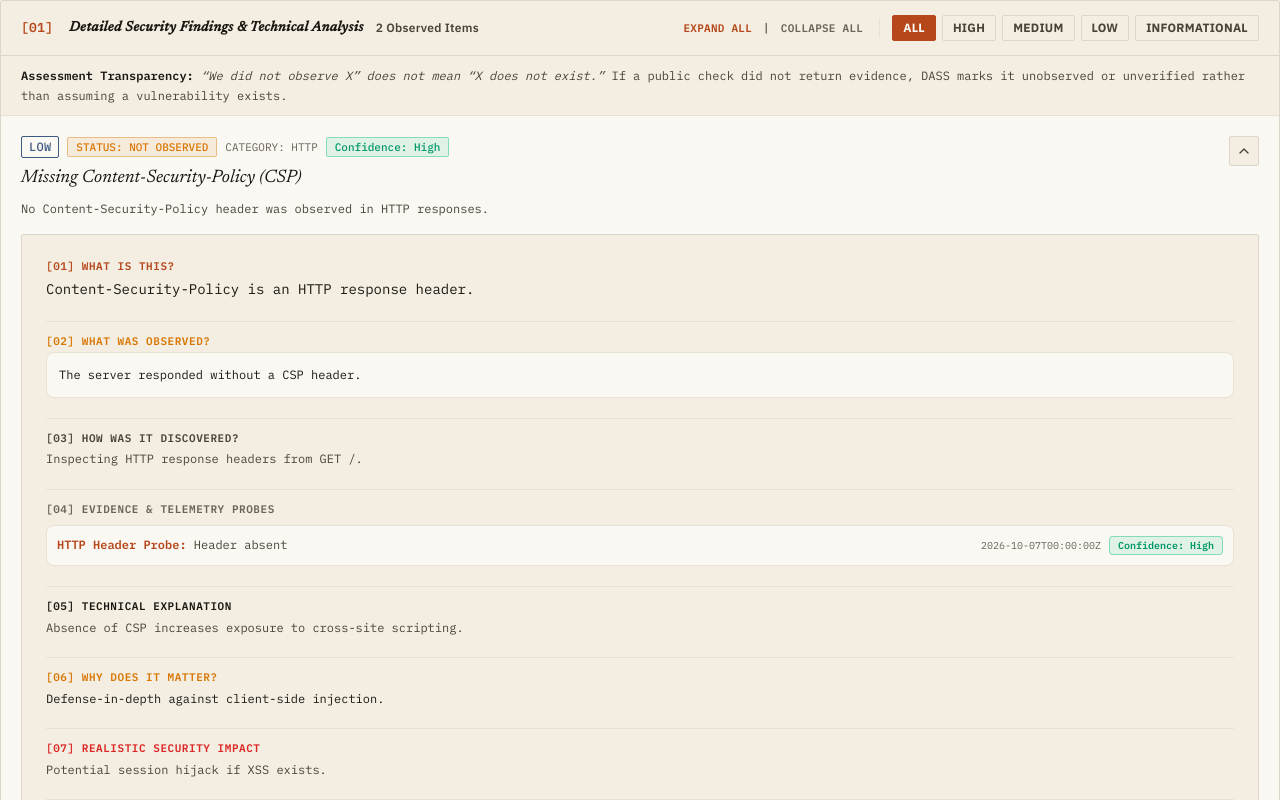
it: Narrative Generation & Findings Section QA Suite › FindingsSection UI & Copy Compliance › supports collapsing and expanding individual findings and all findings
Click the button "COLLAPSE ALL" at (822, 28), box [773,19,871,37]
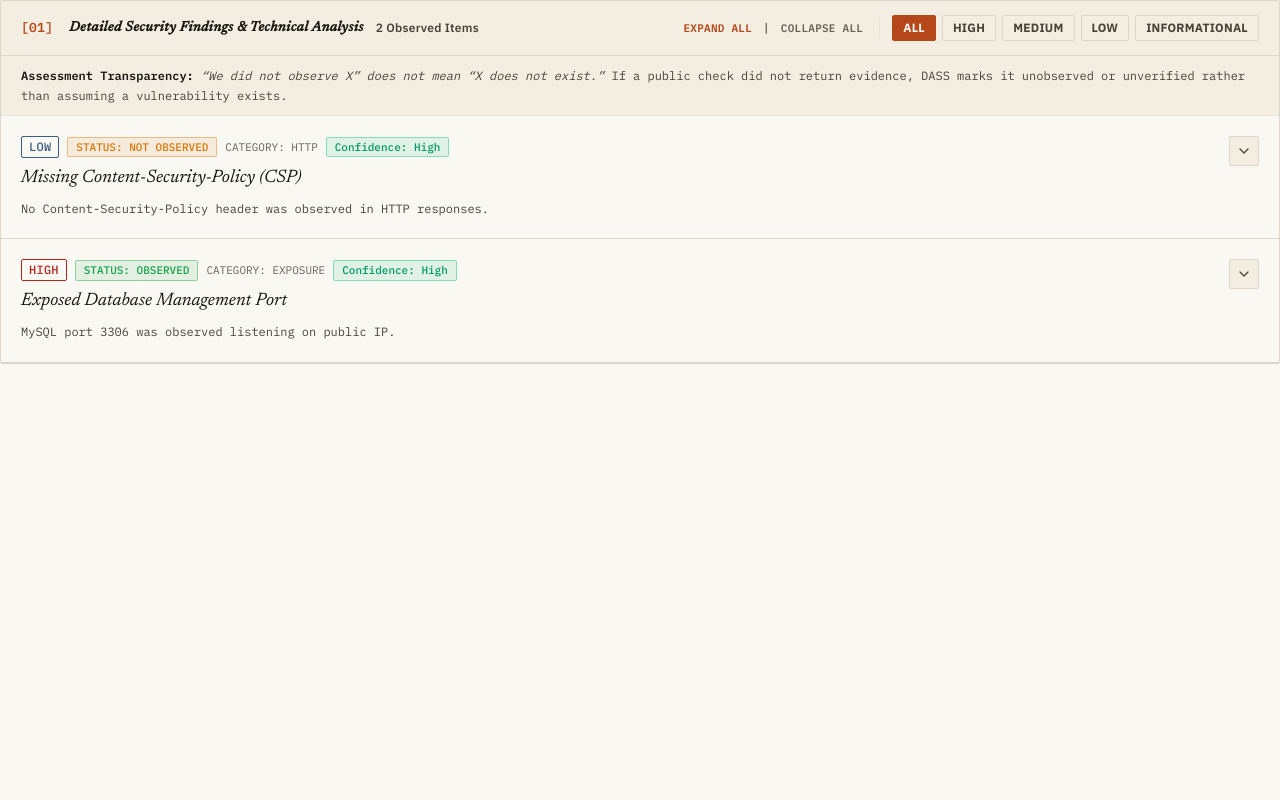
Now the text "[01] WHAT IS THIS?" is gone
Click the button "EXPAND ALL" at (718, 28), box [676,19,760,37]
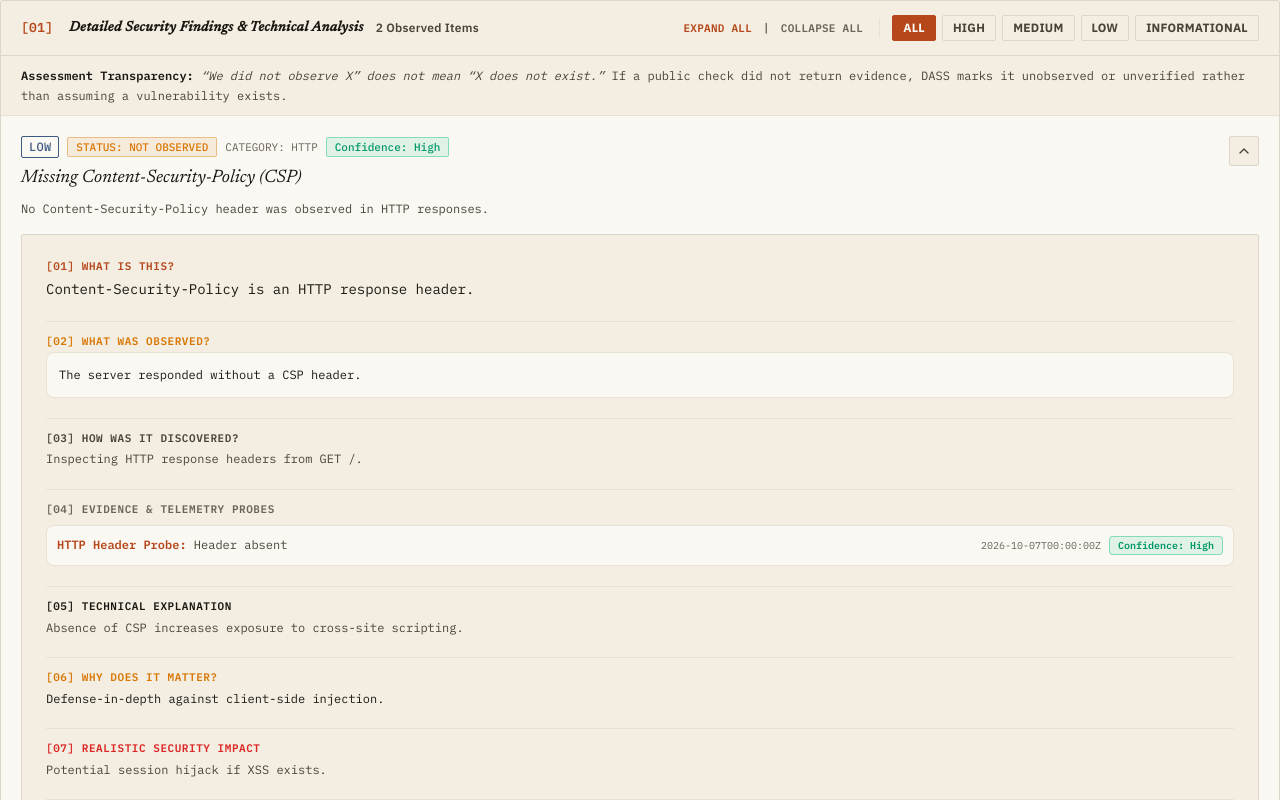
Now the text "[01] WHAT IS THIS?" is shown 2 times
